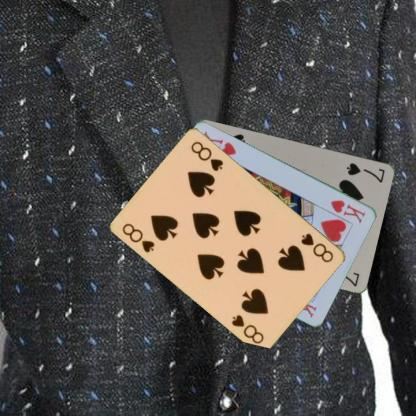7s: (344, 159, 386, 184)
8s: (119, 220, 156, 254), (299, 231, 335, 264)
Kh: (328, 197, 368, 225)
